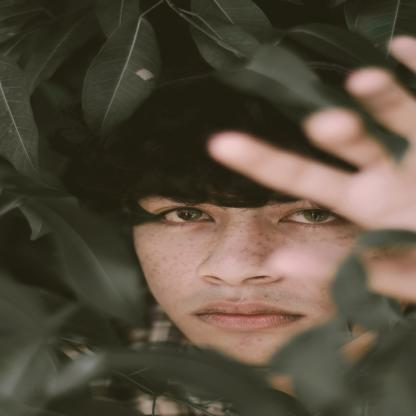Eye: (263, 198, 350, 226), (144, 201, 218, 229)
Mouth: (188, 296, 310, 335)
Nose: (199, 222, 282, 288)
